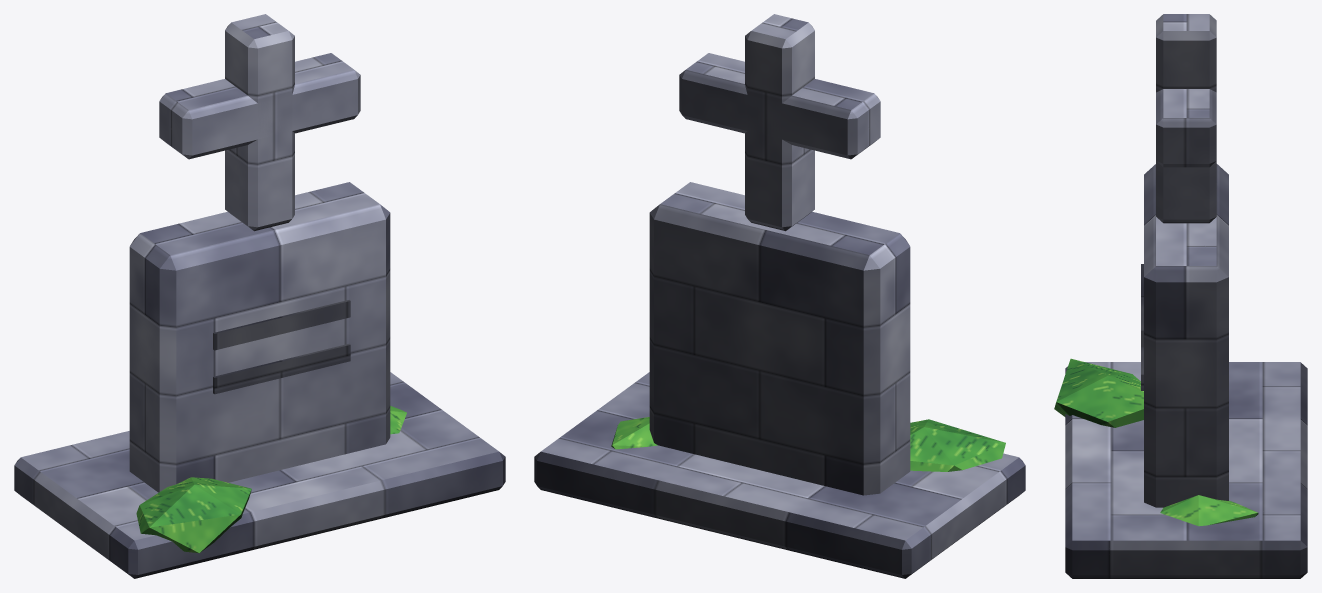
Rendered from grave_b.glb.
The picture shows the model from 3 angles, left to right: view 1: azimuth 30°, elevation 25°; view 2: azimuth 150°, elevation 25°; view 3: azimuth 270°, elevation 25°; orthographic projection.
Parts seen in each view (by area): view 1: grave_b; view 2: grave_b; view 3: grave_b.
Part boxes in pixels (x1=…): grave_b: x1=14, y1=14, x2=505, y2=578; grave_b: x1=534, y1=14, x2=1025, y2=578; grave_b: x1=1054, y1=14, x2=1307, y2=578.
Bounding box in the file's own units: 0.72 × 0.852 × 0.4181.
Materials: 3 (3 with a texture image).
